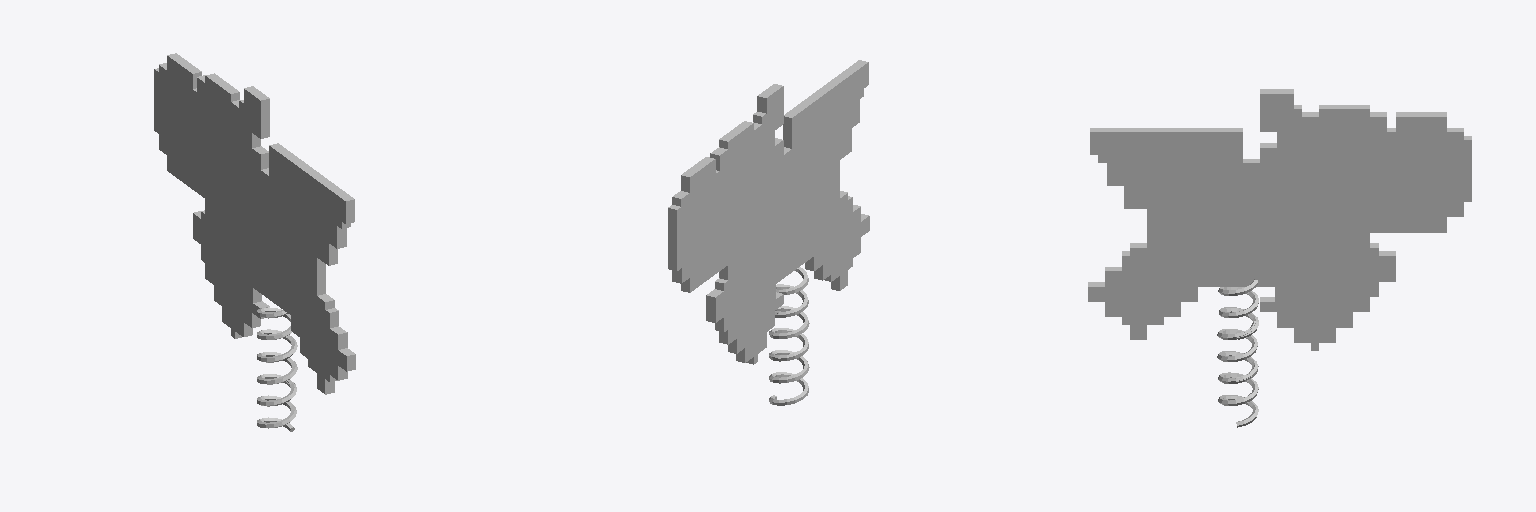
The model's file is ButtercupBumper.obj.
The picture shows the model from 3 angles: view 1: azimuth 30°, elevation 25°; view 2: azimuth 150°, elevation 25°; view 3: azimuth 270°, elevation 25°; orthographic projection.
Visible parts, largest first — view 1: ButterCupBumper; view 2: ButterCupBumper; view 3: ButterCupBumper.
Part boxes in pixels (bbox=[...]): ButterCupBumper: bbox=[154, 53, 355, 431]; ButterCupBumper: bbox=[668, 60, 869, 405]; ButterCupBumper: bbox=[1088, 89, 1471, 427].
Size of the model in its own units: 7.43 by 65.07 by 69.15.